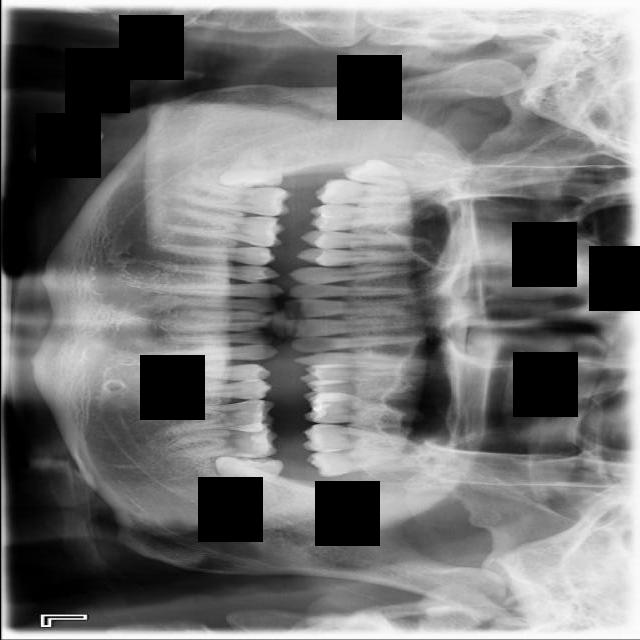3M ESPE Implant: (340, 155, 464, 195)
52: (226, 420, 279, 461), (222, 396, 275, 434), (303, 391, 362, 425), (307, 201, 361, 232)
73: (62, 605, 70, 608)
BioHorizons Implant: (300, 423, 432, 456)
BioLife Implant: (305, 446, 421, 478)
Biomet 3i Implant: (213, 452, 284, 506)
Blue Sky Bio Implant: (161, 421, 279, 461)
Caries: (314, 179, 453, 205)
Implant: (179, 172, 292, 221)
Keystone Dental Implant: (218, 141, 288, 195)
